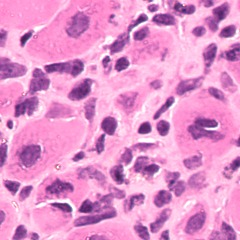New: (28, 1, 117, 60), (5, 117, 83, 180), (174, 77, 240, 151), (169, 198, 213, 240), (65, 218, 137, 240), (1, 199, 20, 239)
